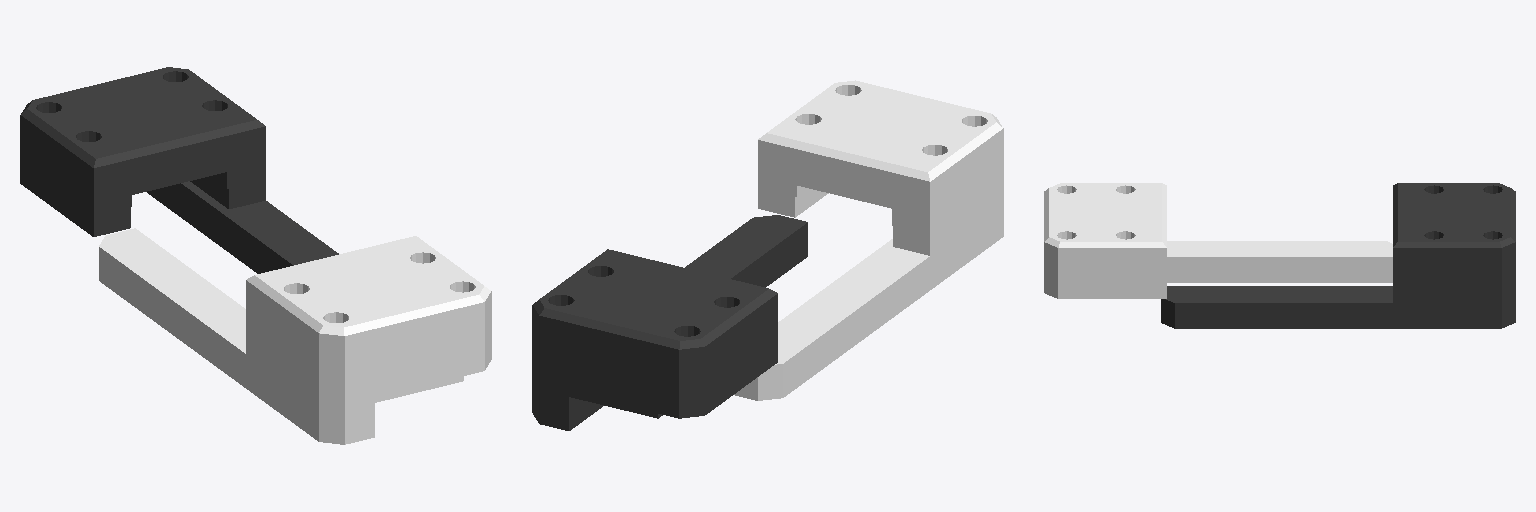
The robot description file, URDF, robot "gripper-urdf-assembly":
<?xml version="1.0" encoding="utf-8"?>
<!-- This URDF was automatically created by SolidWorks to URDF Exporter! Originally created by [author] ([email redacted]) 
     Commit Version: 1.6.0-4-g7f85cfe  Build Version: 1.6.7995.38578
     For more information, please see http://wiki.ros.org/sw_urdf_exporter -->
<robot
  name="gripper-urdf-assembly">
  <link
    name="gripper_base_link">
    <inertial>
      <origin
        xyz="1.182E-08 5.7131E-10 0.0085909"
        rpy="0 0 0" />
      <mass
        value="0.034286" />
      <inertia
        ixx="1.3936E-05"
        ixy="-1.3394E-11"
        ixz="4.8912E-13"
        iyy="1.368E-05"
        iyz="1.8413E-13"
        izz="2.5457E-05" />
    </inertial>
    <visual>
      <origin
        xyz="0 0 0"
        rpy="0 0 0" />
      <geometry>
        <mesh
          filename="package://gripper-urdf-assembly/meshes/gripper_base_link.STL" />
      </geometry>
      <material
        name="">
        <color
          rgba="1 1 1 1" />
      </material>
    </visual>
    <collision>
      <origin
        xyz="0 0 0"
        rpy="0 0 0" />
      <geometry>
        <mesh
          filename="package://gripper-urdf-assembly/meshes/gripper_base_link.STL" />
      </geometry>
    </collision>
  </link>
  <link
    name="left_gripper_finger_link">
    <inertial>
      <origin
        xyz="0.0038194 -0.0097866 -0.0093404"
        rpy="0 0 0" />
      <mass
        value="0.011596" />
      <inertia
        ixx="4.1951E-06"
        ixy="7.1027E-07"
        ixz="3.2917E-07"
        iyy="1.5162E-06"
        iyz="-6.8315E-07"
        izz="4.847E-06" />
    </inertial>
    <visual>
      <origin
        xyz="0 0 0"
        rpy="0 0 0" />
      <geometry>
        <mesh
          filename="package://gripper-urdf-assembly/meshes/left_gripper_finger_link.STL" />
      </geometry>
      <material
        name="">
        <color
          rgba="0.29804 0.29804 0.29804 1" />
      </material>
    </visual>
    <collision>
      <origin
        xyz="0 0 0"
        rpy="0 0 0" />
      <geometry>
        <mesh
          filename="package://gripper-urdf-assembly/meshes/left_gripper_finger_link.STL" />
      </geometry>
    </collision>
  </link>
  <joint
    name="left_gripper_finger_joint"
    type="prismatic">
    <origin
      xyz="0 0.039 0.07435"
      rpy="0 0 0" />
    <parent
      link="gripper_base_link" />
    <child
      link="left_gripper_finger_link" />
    <axis
      xyz="0 -1 0" />
    <limit
      lower="0"
      upper="0.24"
      effort="10"
      velocity="1" />
  </joint>
  <link
    name="right_gripper_finger_link">
    <inertial>
      <origin
        xyz="0 0 0"
        rpy="0 0 0" />
      <mass
        value="0" />
      <inertia
        ixx="0"
        ixy="0"
        ixz="0"
        iyy="0"
        iyz="0"
        izz="0" />
    </inertial>
    <visual>
      <origin
        xyz="0 0 0"
        rpy="0 0 0" />
      <geometry>
        <mesh
          filename="package://gripper-urdf-assembly/meshes/right_gripper_finger_link.STL" />
      </geometry>
      <material
        name="">
        <color
          rgba="1 1 1 1" />
      </material>
    </visual>
    <collision>
      <origin
        xyz="0 0 0"
        rpy="0 0 0" />
      <geometry>
        <mesh
          filename="package://gripper-urdf-assembly/meshes/right_gripper_finger_link.STL" />
      </geometry>
    </collision>
  </link>
  <joint
    name="right_gripper_finger_joint"
    type="prismatic">
    <origin
      xyz="0 -0.039 0.07435"
      rpy="0 0 0" />
    <parent
      link="gripper_base_link" />
    <child
      link="right_gripper_finger_link" />
    <axis
      xyz="0 1 0" />
    <limit
      lower="0"
      upper="0.24"
      effort="10"
      velocity="1" />
    <mimic
      joint="left_gripper_finger_joint"
      multiplier="1"
      offset="0" />
  </joint>
</robot>

--- What the picture shows (computed from the rendered views, not written in the file) ---
The picture shows the robot from 3 angles, left to right: view 1: azimuth 30°, elevation 25°; view 2: azimuth 150°, elevation 25°; view 3: azimuth 270°, elevation 25°; orthographic projection.
Robot: gripper-urdf-assembly — 3 links, 2 joints (2 prismatic); root link gripper_base_link; default pose: all joints at 0.
Links seen in each view (by area): view 1: right_gripper_finger_link, left_gripper_finger_link; view 2: right_gripper_finger_link, left_gripper_finger_link; view 3: left_gripper_finger_link, right_gripper_finger_link.
Boxes of the visible links, x1,y1,x2,y2 form: right_gripper_finger_link: [99, 228, 491, 444]; left_gripper_finger_link: [20, 67, 338, 273]; right_gripper_finger_link: [734, 80, 1003, 400]; left_gripper_finger_link: [532, 215, 807, 430]; left_gripper_finger_link: [1161, 183, 1515, 328]; right_gripper_finger_link: [1044, 183, 1392, 298].
Size in the robot's own frame: 0.0314 by 0.1 by 0.0199 metres.
2 mesh visuals loaded from 3 distinct referenced files (2 binary STL); not drawn: 1 (reference not matched to a file when rendering).